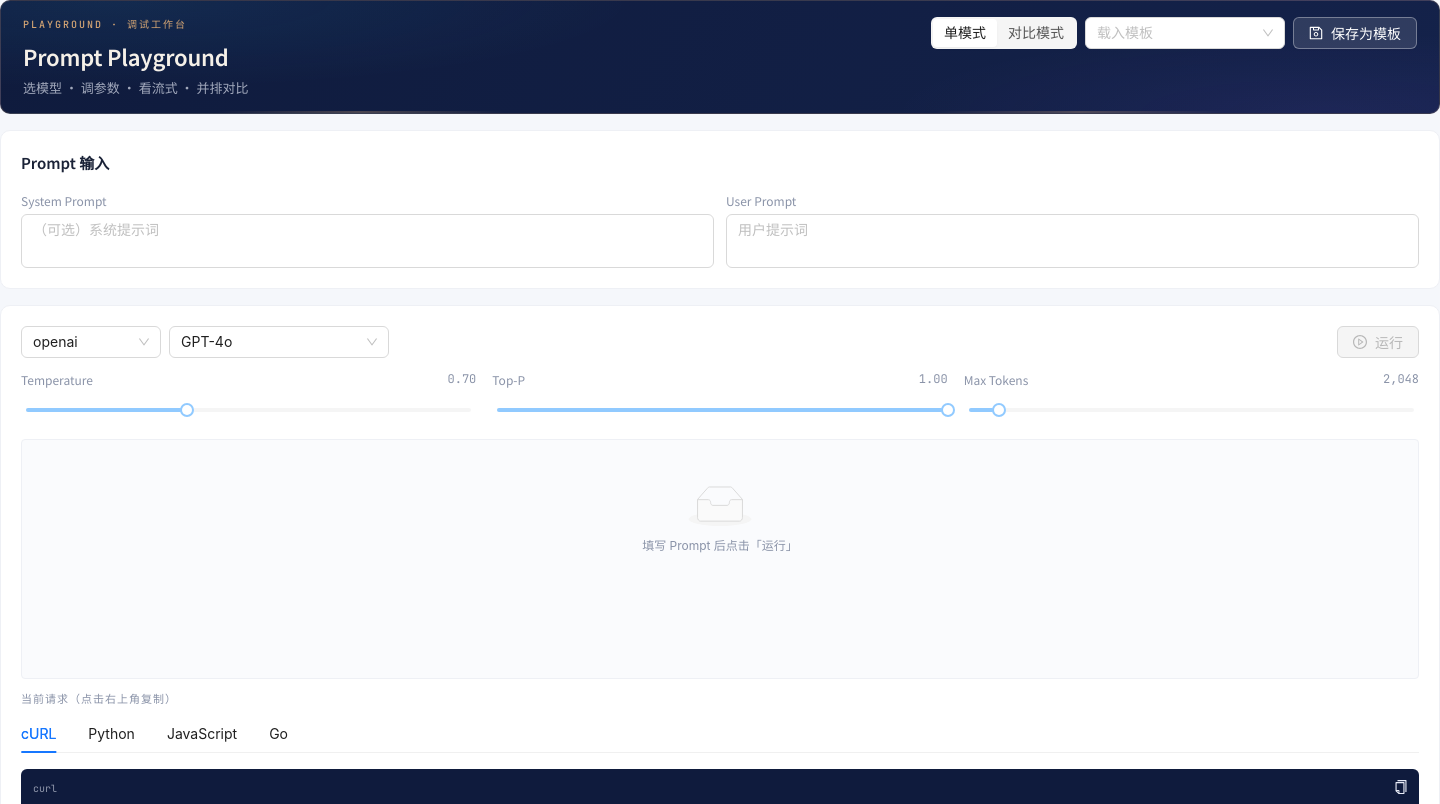
Test: Playground — /playground › compare mode renders two independent panes that both stream
This screenshot has width=1440, height=804.
Expected: the text "GPT-4o" is shown, [181,333,232,350]
Type "compare test" into the text box with test id "pg-user". click: (1072, 241)
box: [726,214,1419,268]
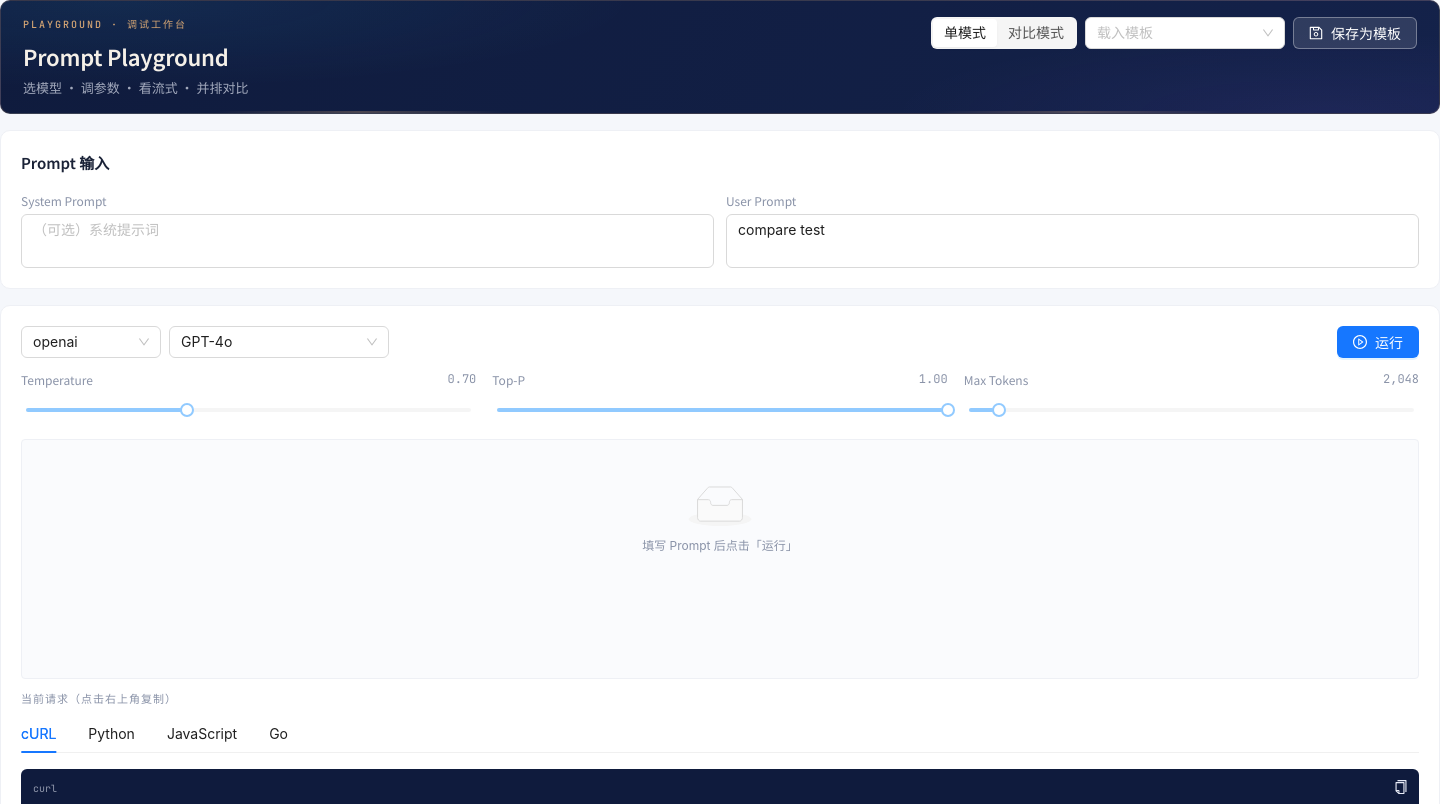
Click the text "对比模式". click: click(1036, 32)
box: [1008,24,1064,41]
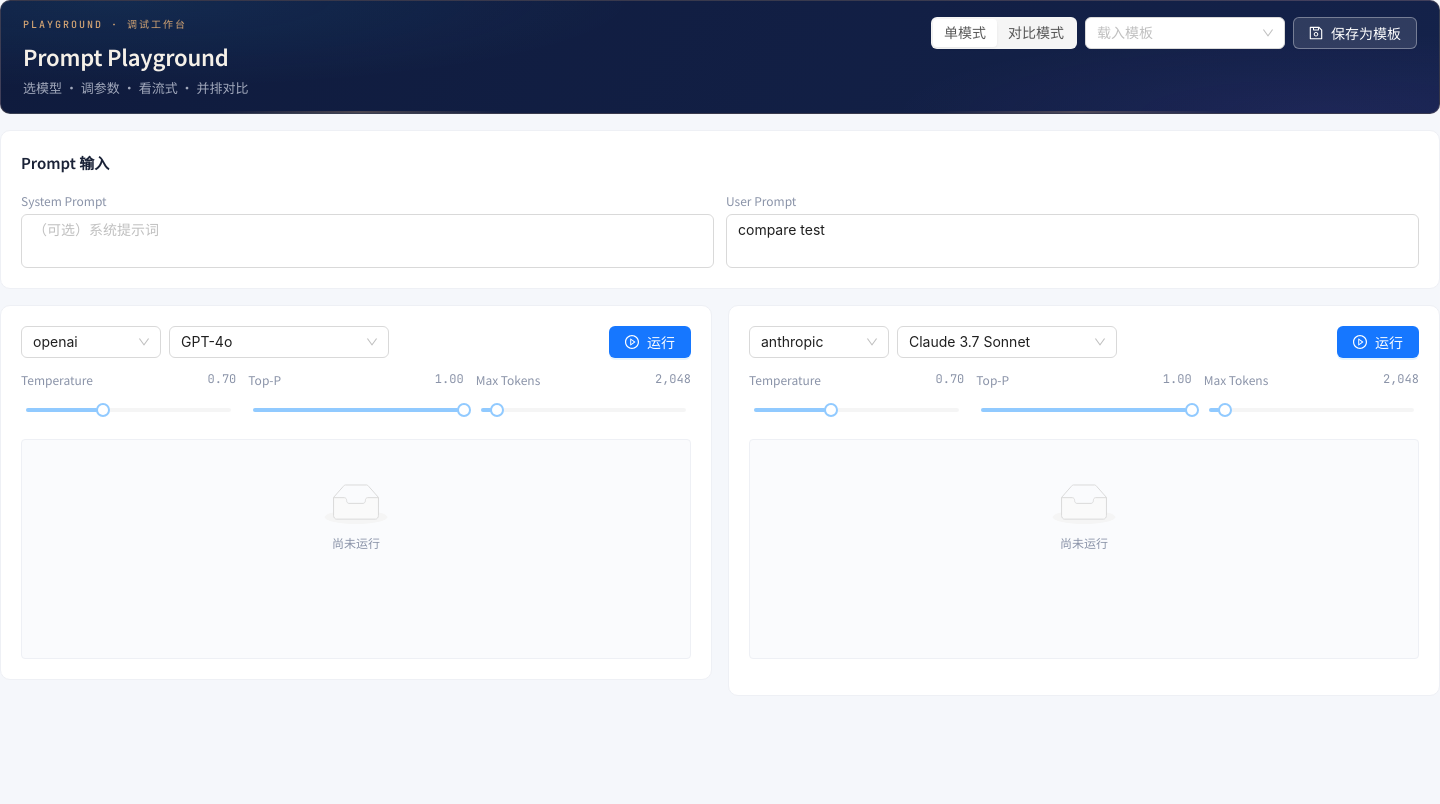
Expected: the element with test id "compare-pane-A" is shown, [0,305,712,680]
Expected: the element with test id "compare-pane-B" is shown, [728,305,1439,696]
// A pane 运行
Click the button with test id "pg-a-run". click: click(650, 342)
box: [609,326,691,358]
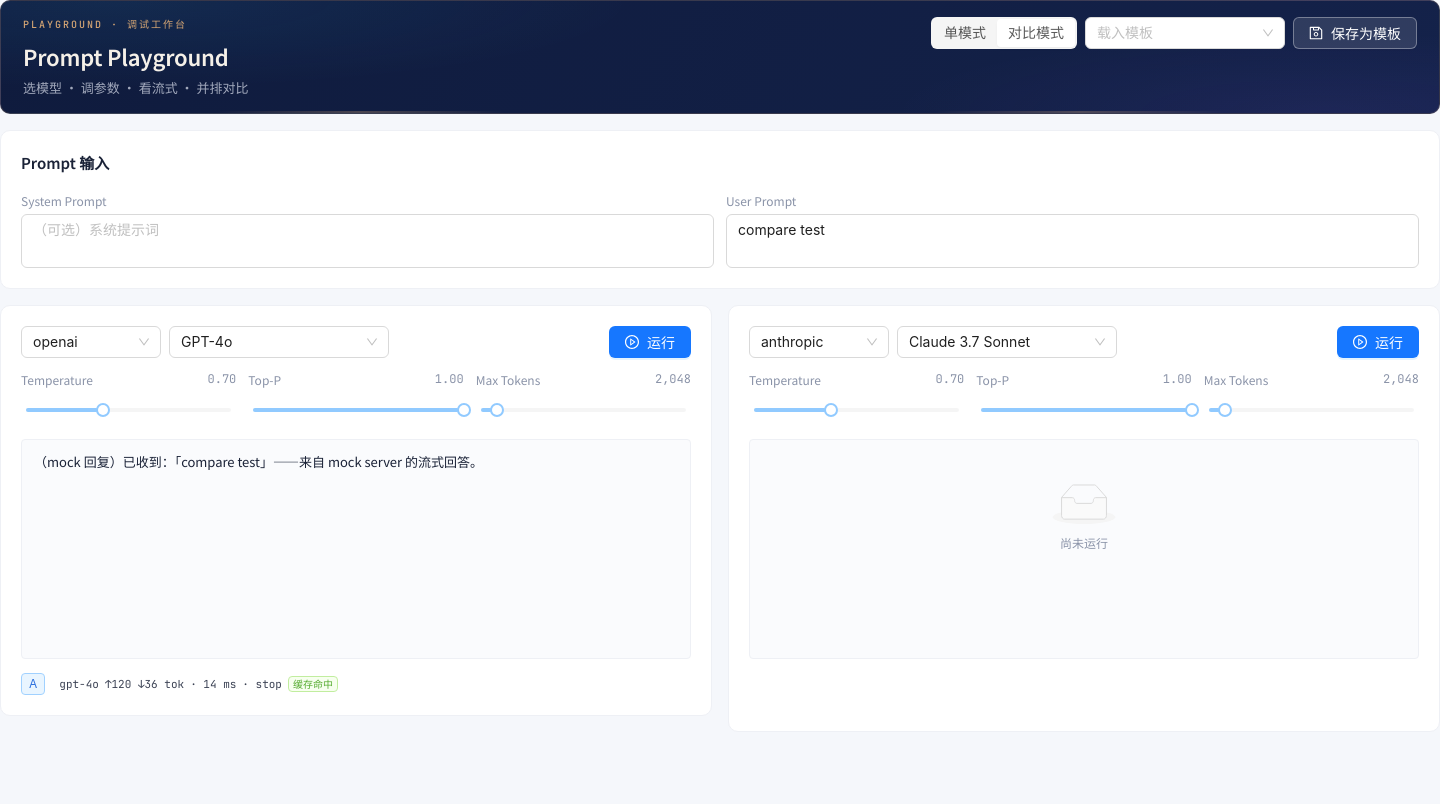
Expected: the text with test id "pg-a-output" shows "mock", [34,452,483,471]
